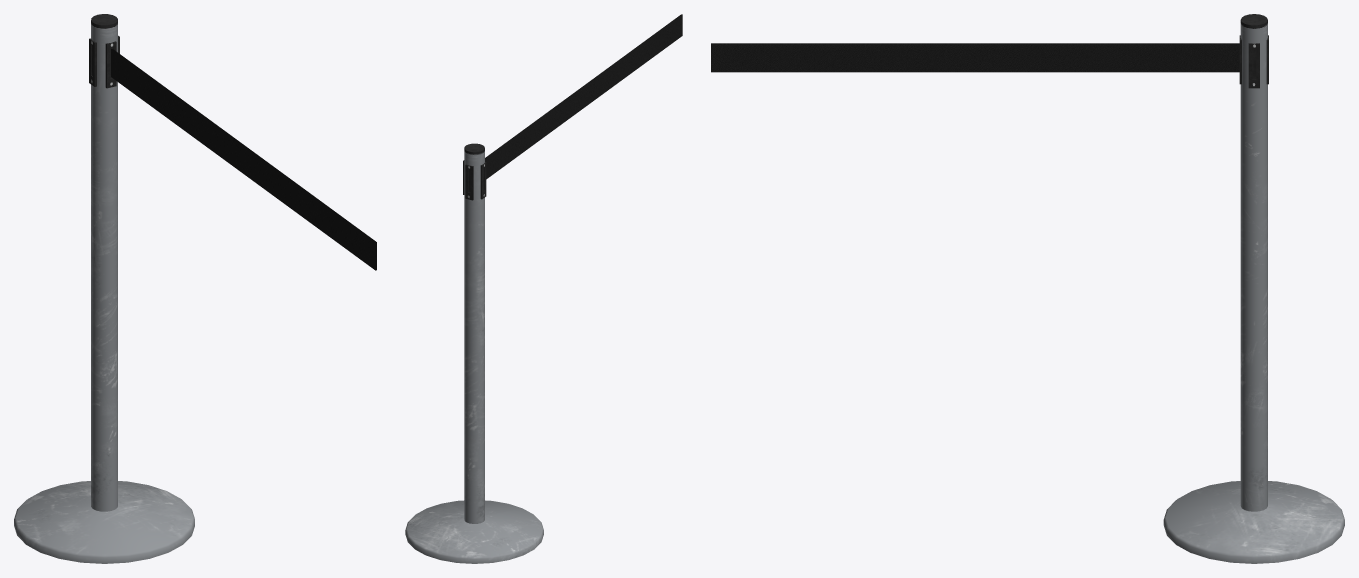
The model's file is SM_BeltBarrier.fbx.
3 renders of one model, left to right at view 1: azimuth 30°, elevation 25°; view 2: azimuth 150°, elevation 25°; view 3: azimuth 270°, elevation 25°, orthographic. The views are drawn at different scales.
Parts seen in each view (by area): view 1: SM_BeltBarrier; view 2: SM_BeltBarrier; view 3: SM_BeltBarrier.
Boxes of the visible parts, <box> form: SM_BeltBarrier: <box>14,14,376,563</box>; SM_BeltBarrier: <box>405,14,682,563</box>; SM_BeltBarrier: <box>711,14,1344,563</box>.
Size of the model in its own units: 36 by 126 by 111.
1 material, 1 textured.
